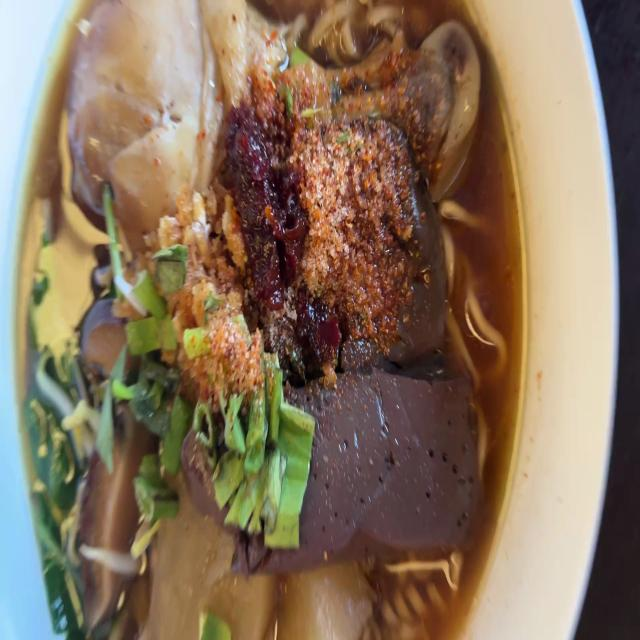noodle: (0, 0, 522, 640)
